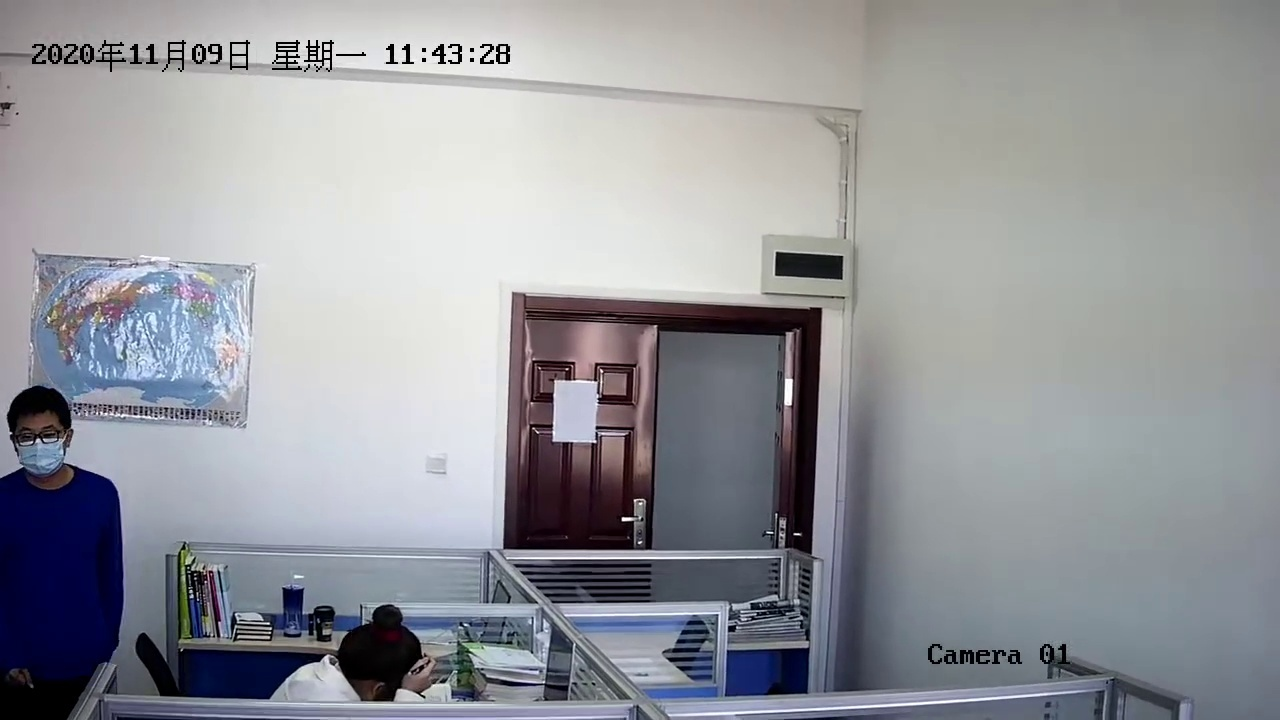mask: (11, 393, 81, 485)
